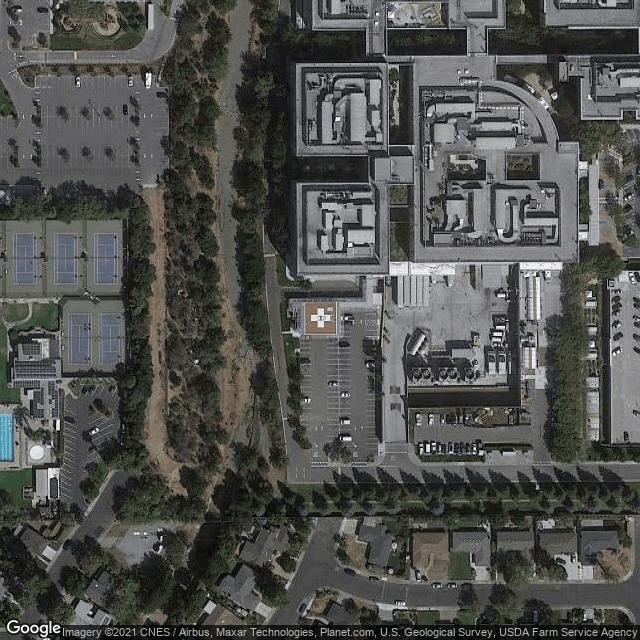Helipad: (303, 298, 338, 335)
